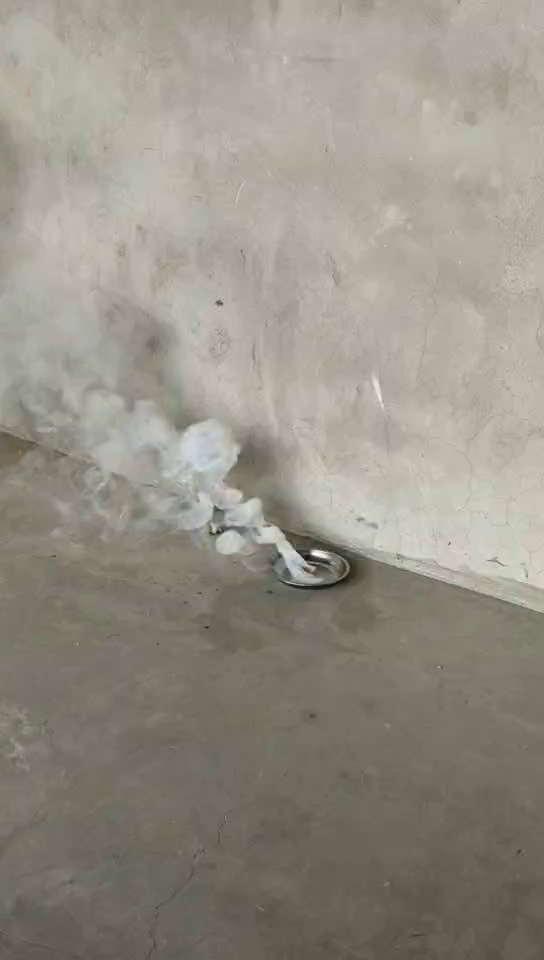yanwu: (84, 391, 305, 584)
